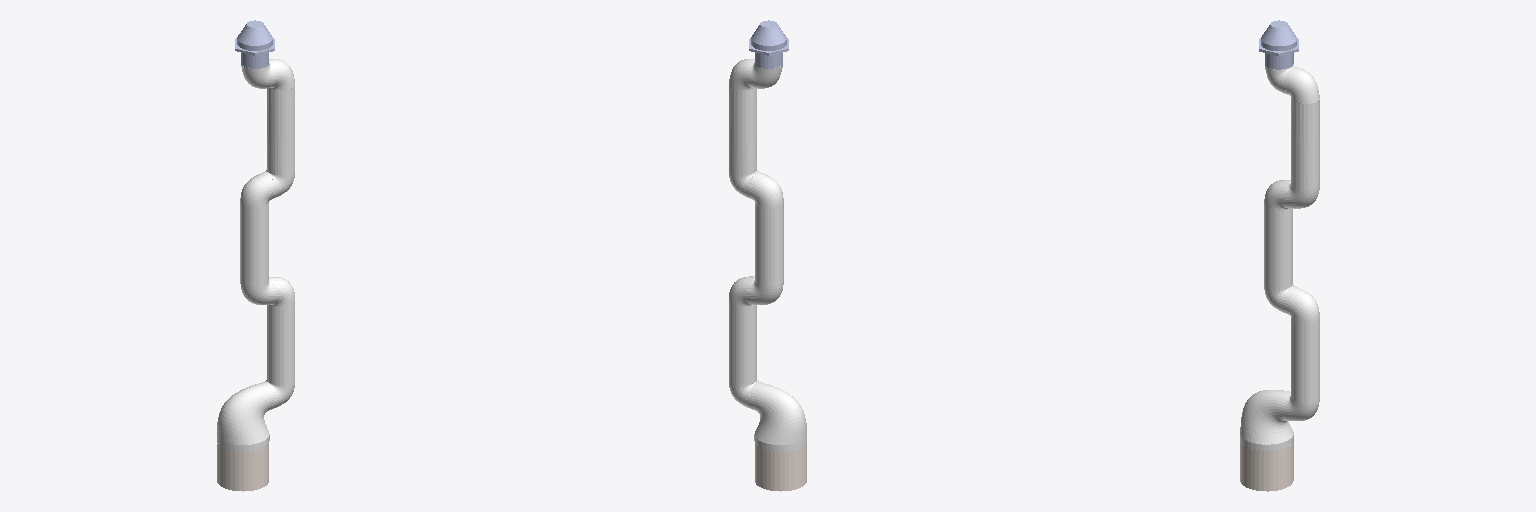
robot.urdf — nemo1:
<?xml version="1.0" encoding="utf-8"?>
<!-- This URDF was automatically created by SolidWorks to URDF Exporter! Originally created by Stephen Brawner (brawner@gmail.com) 
     Commit Version: 1.6.0-4-g7f85cfe  Build Version: 1.6.7995.38578
     For more information, please see http://wiki.ros.org/sw_urdf_exporter -->
<robot
  name="nemo1">
  <link
    name="base_link">
    <inertial>
      <origin
        xyz="-4.0251E-17 5.7935E-34 0.24074"
        rpy="0 0 0" />
      <mass
        value="39.819" />
      <inertia
        ixx="0.95808"
        ixy="9.1833E-33"
        ixz="1.4543E-18"
        iyy="0.95808"
        iyz="-2.0879E-32"
        izz="0.84991" />
    </inertial>
    <visual>
      <origin
        xyz="0 0 0"
        rpy="0 0 0" />
      <geometry>
        <mesh
          filename="package://nemo1/meshes/base_link.STL" />
      </geometry>
      <material
        name="">
        <color
          rgba="1 0.95686 0.92941 1" />
      </material>
    </visual>
    <collision>
      <origin
        xyz="0 0 0"
        rpy="0 0 0" />
      <geometry>
        <mesh
          filename="package://nemo1/meshes/base_link.STL" />
      </geometry>
    </collision>
  </link>
  <link
    name="link_1">
    <inertial>
      <origin
        xyz="0.010338 -0.0004773 0.18391"
        rpy="0 0 0" />
      <mass
        value="49.442" />
      <inertia
        ixx="0.72708"
        ixy="0.0024865"
        ixz="-0.12127"
        iyy="0.89497"
        iyz="-0.00065038"
        izz="0.71565" />
    </inertial>
    <visual>
      <origin
        xyz="0 0 0"
        rpy="0 0 0" />
      <geometry>
        <mesh
          filename="package://nemo1/meshes/link_1.STL" />
      </geometry>
      <material
        name="">
        <color
          rgba="1 1 1 1" />
      </material>
    </visual>
    <collision>
      <origin
        xyz="0 0 0"
        rpy="0 0 0" />
      <geometry>
        <mesh
          filename="package://nemo1/meshes/link_1.STL" />
      </geometry>
    </collision>
  </link>
  <joint
    name="J1"
    type="revolute">
    <origin
      xyz="0 0 0.305"
      rpy="0 0 0" />
    <parent
      link="base_link" />
    <child
      link="link_1" />
    <axis
      xyz="0 0 1" />
    <limit
      lower="-3.14"
      upper="3.14"
      effort="2000"
      velocity="0.8" />
  </joint>
  <link
    name="link_2">
    <inertial>
      <origin
        xyz="-0.405 -7.1675E-05 0.1354"
        rpy="0 0 0" />
      <mass
        value="23.562" />
      <inertia
        ixx="0.13291"
        ixy="-7.5138E-07"
        ixz="2.3007E-07"
        iyy="3.415"
        iyz="5.699E-05"
        izz="3.4052" />
    </inertial>
    <visual>
      <origin
        xyz="0 0 0"
        rpy="0 0 0" />
      <geometry>
        <mesh
          filename="package://nemo1/meshes/link_2.STL" />
      </geometry>
      <material
        name="">
        <color
          rgba="1 1 1 1" />
      </material>
    </visual>
    <collision>
      <origin
        xyz="0 0 0"
        rpy="0 0 0" />
      <geometry>
        <mesh
          filename="package://nemo1/meshes/link_2.STL" />
      </geometry>
    </collision>
  </link>
  <joint
    name="J2"
    type="revolute">
    <origin
      xyz="0.15 0 0.3"
      rpy="0 1.5708 0" />
    <parent
      link="link_1" />
    <child
      link="link_2" />
    <axis
      xyz="0 0 1" />
    <limit
      lower="-3.14"
      upper="3.14"
      effort="2000"
      velocity="0.8" />
  </joint>
  <link
    name="link_3">
    <inertial>
      <origin
        xyz="-0.41186 -7.289E-05 -0.086846"
        rpy="0 0 0" />
      <mass
        value="23.169" />
      <inertia
        ixx="0.12961"
        ixy="1.2349E-05"
        ixz="0.013812"
        iyy="3.3462"
        iyz="-5.4544E-05"
        izz="3.3396" />
    </inertial>
    <visual>
      <origin
        xyz="0 0 0"
        rpy="0 0 0" />
      <geometry>
        <mesh
          filename="package://nemo1/meshes/link_3.STL" />
      </geometry>
      <material
        name="">
        <color
          rgba="1 1 1 1" />
      </material>
    </visual>
    <collision>
      <origin
        xyz="0 0 0"
        rpy="0 0 0" />
      <geometry>
        <mesh
          filename="package://nemo1/meshes/link_3.STL" />
      </geometry>
    </collision>
  </link>
  <joint
    name="J3"
    type="revolute">
    <origin
      xyz="-0.81 0 0.05"
      rpy="0 0 0" />
    <parent
      link="link_2" />
    <child
      link="link_3" />
    <axis
      xyz="0 0 1" />
    <limit
      lower="-3.14"
      upper="3.14"
      effort="2000"
      velocity="0.8" />
  </joint>
  <link
    name="link_4">
    <inertial>
      <origin
        xyz="-0.20303 5.5903E-05 0.093029"
        rpy="0 0 0" />
      <mass
        value="15.206" />
      <inertia
        ixx="0.087692"
        ixy="-0.00022912"
        ixz="0.046098"
        iyy="1.3816"
        iyz="-2.2268E-05"
        izz="1.3789" />
    </inertial>
    <visual>
      <origin
        xyz="0 0 0"
        rpy="0 0 0" />
      <geometry>
        <mesh
          filename="package://nemo1/meshes/link_4.STL" />
      </geometry>
      <material
        name="">
        <color
          rgba="1 1 1 1" />
      </material>
    </visual>
    <collision>
      <origin
        xyz="0 0 0"
        rpy="0 0 0" />
      <geometry>
        <mesh
          filename="package://nemo1/meshes/link_4.STL" />
      </geometry>
    </collision>
  </link>
  <joint
    name="J4"
    type="revolute">
    <origin
      xyz="-0.81 0 0"
      rpy="0 0 0" />
    <parent
      link="link_3" />
    <child
      link="link_4" />
    <axis
      xyz="0 0 1" />
    <limit
      lower="-3.14"
      upper="3.14"
      effort="2000"
      velocity="0.8" />
  </joint>
  <link
    name="link_5">
    <inertial>
      <origin
        xyz="0.023474 7.7273E-05 0.13435"
        rpy="0 0 0" />
      <mass
        value="11.232" />
      <inertia
        ixx="0.058934"
        ixy="7.6333E-05"
        ixz="-0.0089365"
        iyy="0.06121"
        iyz="-3.0975E-05"
        izz="0.056584" />
    </inertial>
    <visual>
      <origin
        xyz="0 0 0"
        rpy="0 0 0" />
      <geometry>
        <mesh
          filename="package://nemo1/meshes/link_5.STL" />
      </geometry>
      <material
        name="">
        <color
          rgba="1 1 1 1" />
      </material>
    </visual>
    <collision>
      <origin
        xyz="0 0 0"
        rpy="0 0 0" />
      <geometry>
        <mesh
          filename="package://nemo1/meshes/link_5.STL" />
      </geometry>
    </collision>
  </link>
  <joint
    name="J5"
    type="revolute">
    <origin
      xyz="-0.707 0 0.107"
      rpy="3.1416 1.5708 0" />
    <parent
      link="link_4" />
    <child
      link="link_5" />
    <axis
      xyz="0 0 1" />
    <limit
      lower="-3.14"
      upper="3.14"
      effort="2000"
      velocity="0.8" />
  </joint>
  <link
    name="link_6">
    <inertial>
      <origin
        xyz="-0.023472 8.0222E-05 0.08448"
        rpy="0 0 0" />
      <mass
        value="10.839" />
      <inertia
        ixx="0.053489"
        ixy="-3.1793E-05"
        ixz="0.0081853"
        iyy="0.057908"
        iyz="-7.3889E-05"
        izz="0.058602" />
    </inertial>
    <visual>
      <origin
        xyz="0 0 0"
        rpy="0 0 0" />
      <geometry>
        <mesh
          filename="package://nemo1/meshes/link_6.STL" />
      </geometry>
      <material
        name="">
        <color
          rgba="1 1 1 1" />
      </material>
    </visual>
    <collision>
      <origin
        xyz="0 0 0"
        rpy="0 0 0" />
      <geometry>
        <mesh
          filename="package://nemo1/meshes/link_6.STL" />
      </geometry>
    </collision>
  </link>
  <joint
    name="J6"
    type="revolute">
    <origin
      xyz="0.105 0 0.157"
      rpy="0 1.5708 0" />
    <parent
      link="link_5" />
    <child
      link="link_6" />
    <axis
      xyz="0 0 1" />
    <limit
      lower="-3.14"
      upper="3.14"
      effort="2000"
      velocity="0.8" />
  </joint>
  <link
    name="EE">
    <inertial>
      <origin
        xyz="-3.8804E-08 -1.3523E-08 0.14436"
        rpy="0 0 0" />
      <mass
        value="10.348" />
      <inertia
        ixx="0.090992"
        ixy="-1.3474E-08"
        ixz="5.0453E-08"
        iyy="0.090992"
        iyz="1.7583E-08"
        izz="0.066002" />
    </inertial>
    <visual>
      <origin
        xyz="0 0 0"
        rpy="0 0 0" />
      <geometry>
        <mesh
          filename="package://nemo1/meshes/EE.STL" />
      </geometry>
      <material
        name="">
        <color
          rgba="0.79216 0.81961 0.93333 1" />
      </material>
    </visual>
    <collision>
      <origin
        xyz="0 0 0"
        rpy="0 0 0" />
      <geometry>
        <mesh
          filename="package://nemo1/meshes/EE.STL" />
      </geometry>
    </collision>
  </link>
  <joint
    name="J7"
    type="revolute">
    <origin
      xyz="-0.107 0 0.105"
      rpy="3.1416 1.5708 0" />
    <parent
      link="link_6" />
    <child
      link="EE" />
    <axis
      xyz="0 0 1" />
    <limit
      lower="-3.14"
      upper="3.14"
      effort="2000"
      velocity="0.8" />
  </joint>
</robot>

--- Facts derived from the render (not from the file) ---
The picture shows the robot from 3 angles, left to right: view 1: azimuth 30°, elevation 25°; view 2: azimuth 150°, elevation 25°; view 3: azimuth 330°, elevation 25°; orthographic projection.
Model nemo1 with 8 links and 7 joints (7 revolute), rooted at base_link, posed all joints at 0.
Visible links, largest first — view 1: link_3, link_2, link_1, link_4, base_link, EE, link_6, link_5; view 2: link_3, link_2, link_1, link_4, base_link, EE, link_6, link_5; view 3: link_2, link_3, link_4, link_1, base_link, EE, link_5.
Link boxes in pixels (x1=…): link_3: x1=240, y1=172, x2=274, y2=304; link_2: x1=265, y1=277, x2=294, y2=408; link_1: x1=217, y1=382, x2=274, y2=451; link_4: x1=265, y1=86, x2=294, y2=198; base_link: x1=217, y1=443, x2=268, y2=491; EE: x1=235, y1=20, x2=274, y2=68; link_6: x1=241, y1=62, x2=274, y2=88; link_5: x1=269, y1=59, x2=294, y2=89; link_3: x1=749, y1=172, x2=783, y2=304; link_2: x1=729, y1=276, x2=758, y2=408; link_1: x1=749, y1=382, x2=806, y2=451; link_4: x1=729, y1=86, x2=758, y2=198; base_link: x1=755, y1=444, x2=806, y2=491; EE: x1=749, y1=20, x2=788, y2=68; link_6: x1=749, y1=62, x2=782, y2=88; link_5: x1=729, y1=59, x2=754, y2=89; link_2: x1=1285, y1=286, x2=1319, y2=420; link_3: x1=1264, y1=180, x2=1295, y2=313; link_4: x1=1285, y1=99, x2=1319, y2=208; link_1: x1=1240, y1=390, x2=1293, y2=450; base_link: x1=1240, y1=441, x2=1293, y2=491; EE: x1=1259, y1=20, x2=1298, y2=69; link_5: x1=1285, y1=67, x2=1319, y2=103.
Bounding box of the posed robot: 0.592 × 0.3697 × 3.5 m (x, y, z).
Meshes: 8 distinct files referenced, 8 mesh visuals loaded (8 binary STL).
